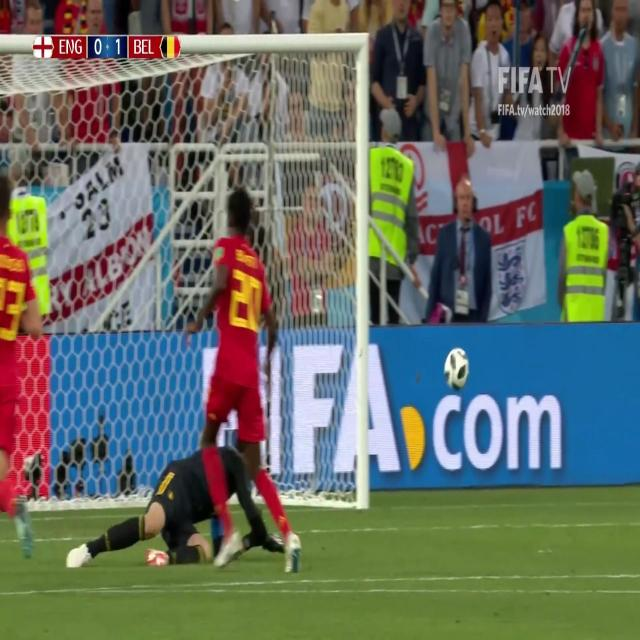ball: (441, 342, 472, 392)
player: (159, 183, 299, 570), (68, 408, 300, 572), (1, 167, 41, 548)
